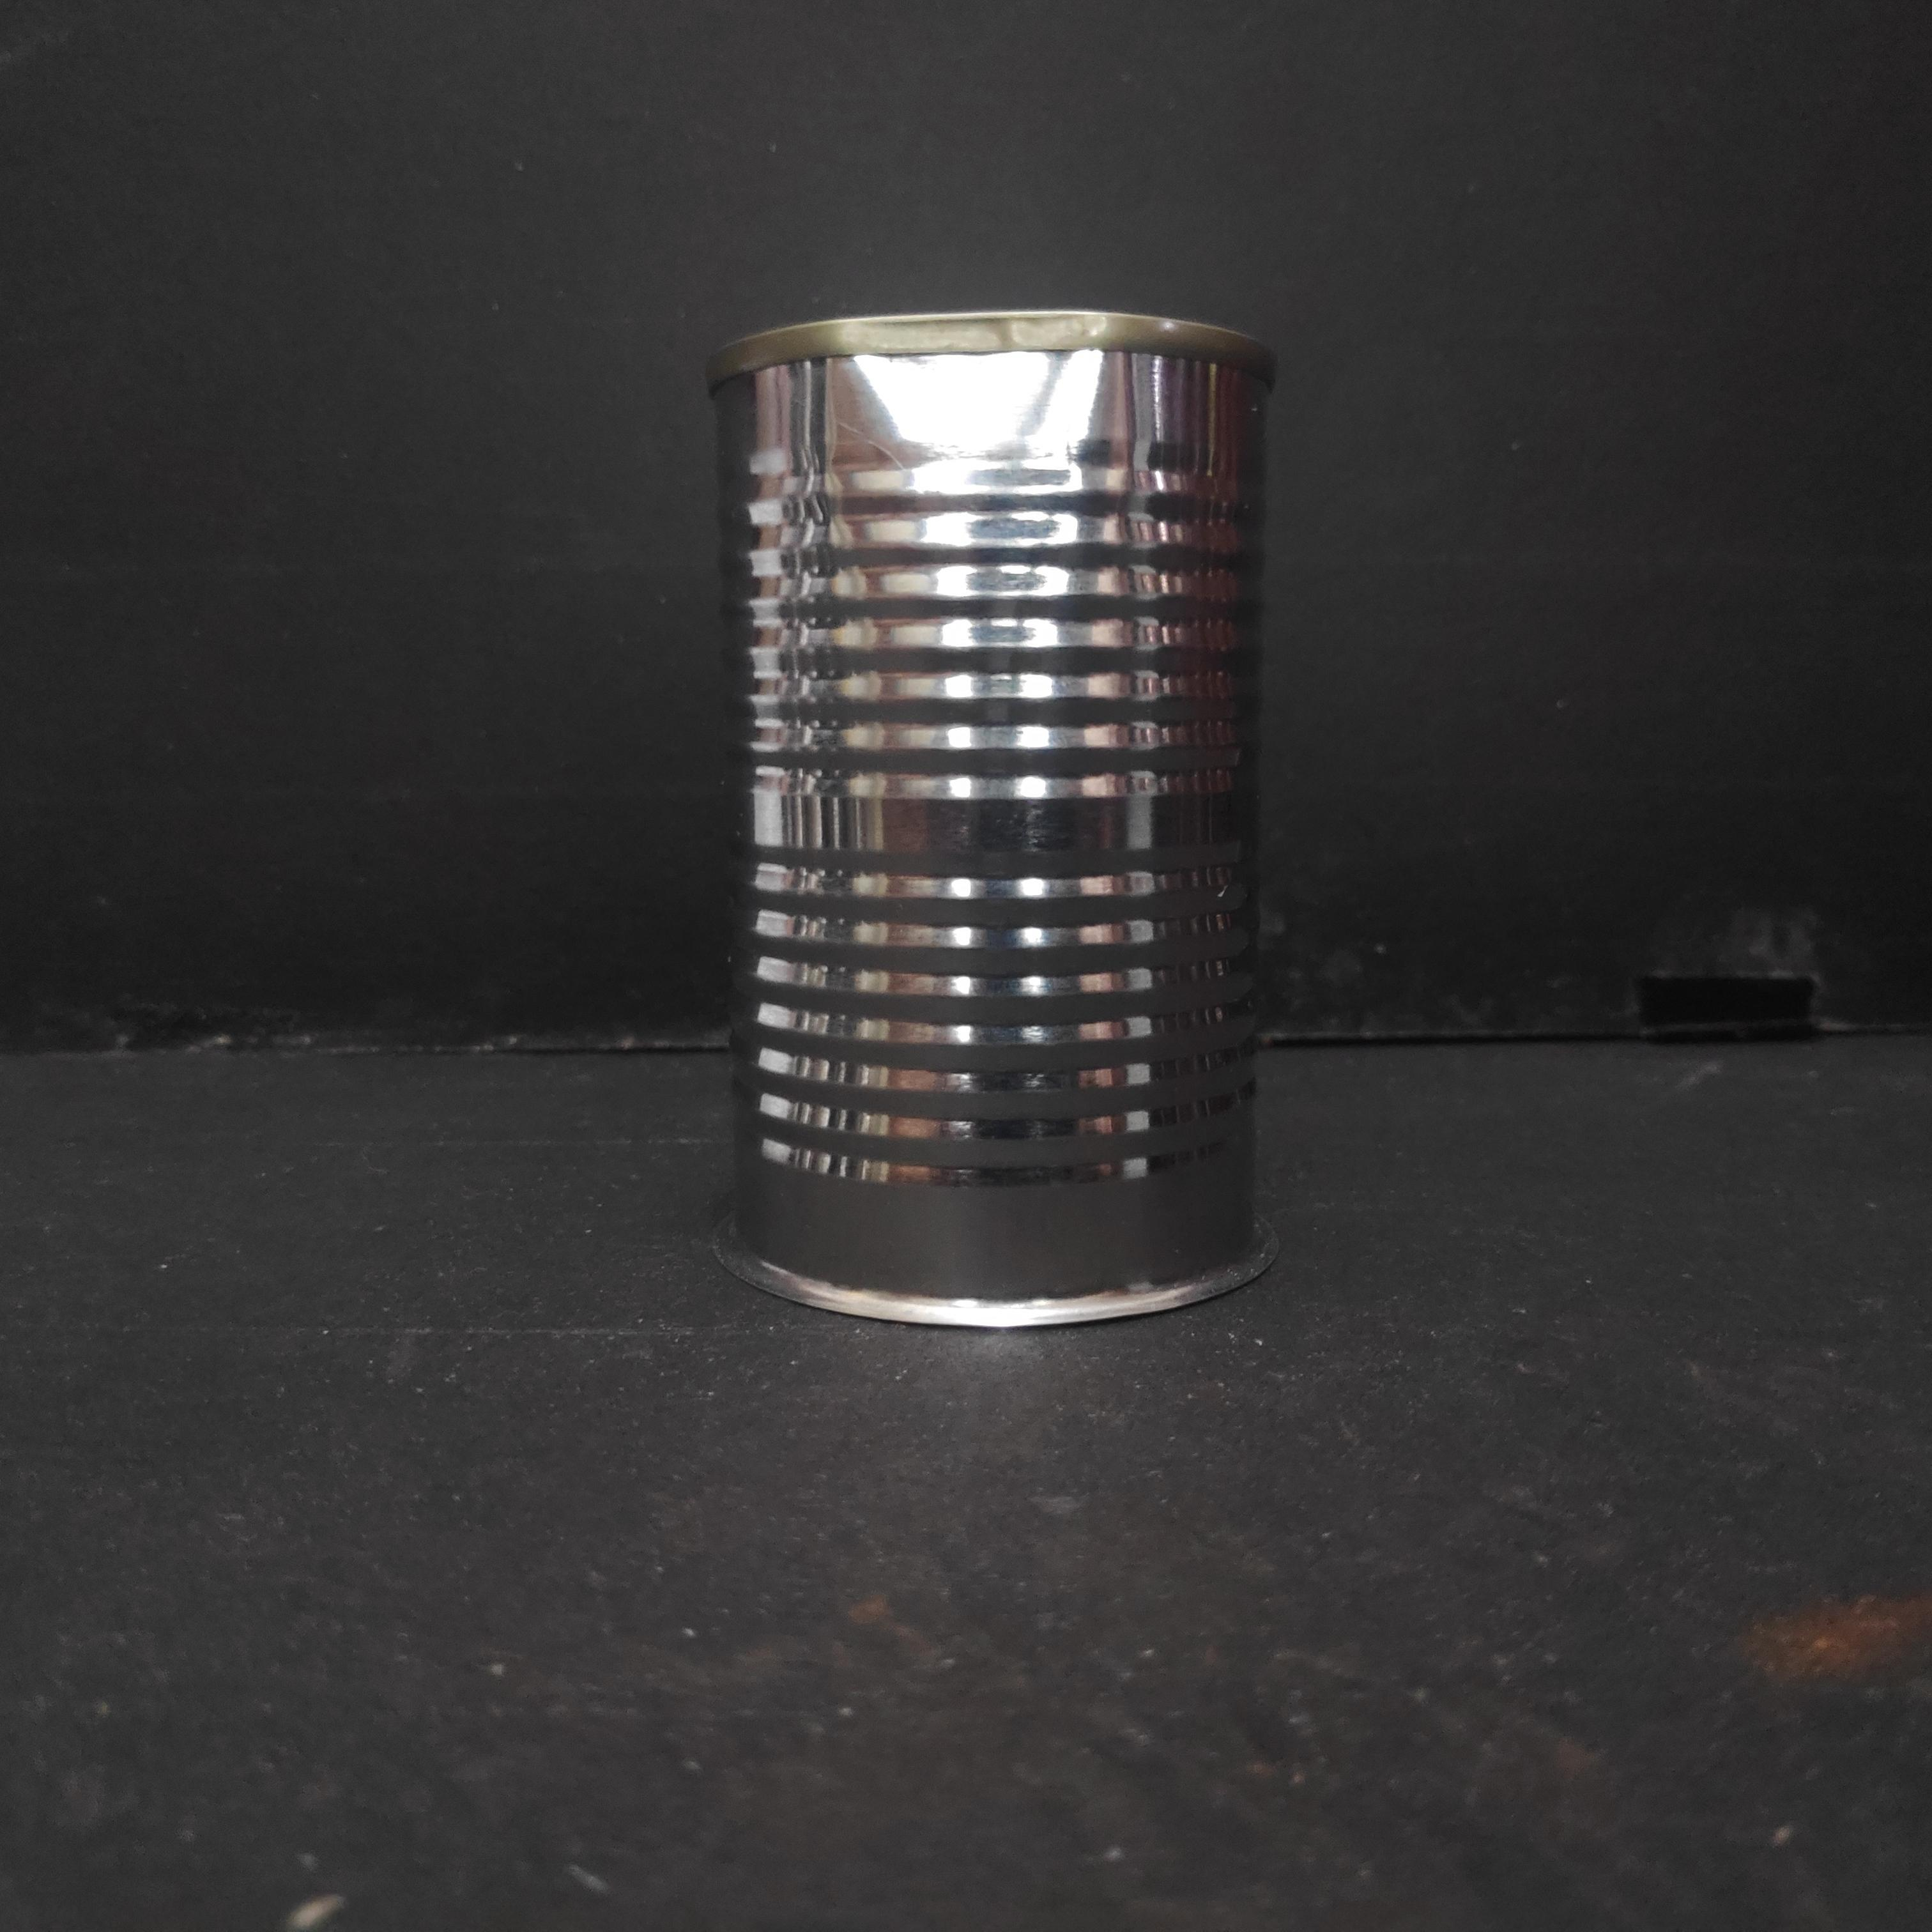Minor Defect: (692, 304, 1293, 1343)
